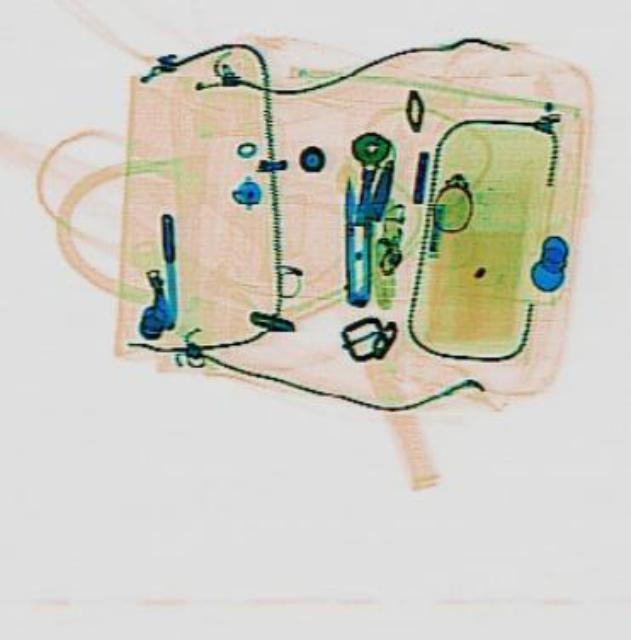Scissors: (339, 176, 373, 304)
